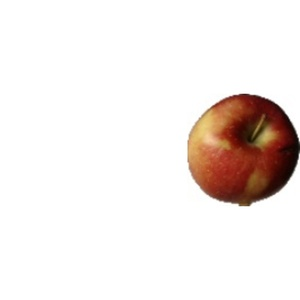maçã braeburn: (185, 92, 299, 207)
